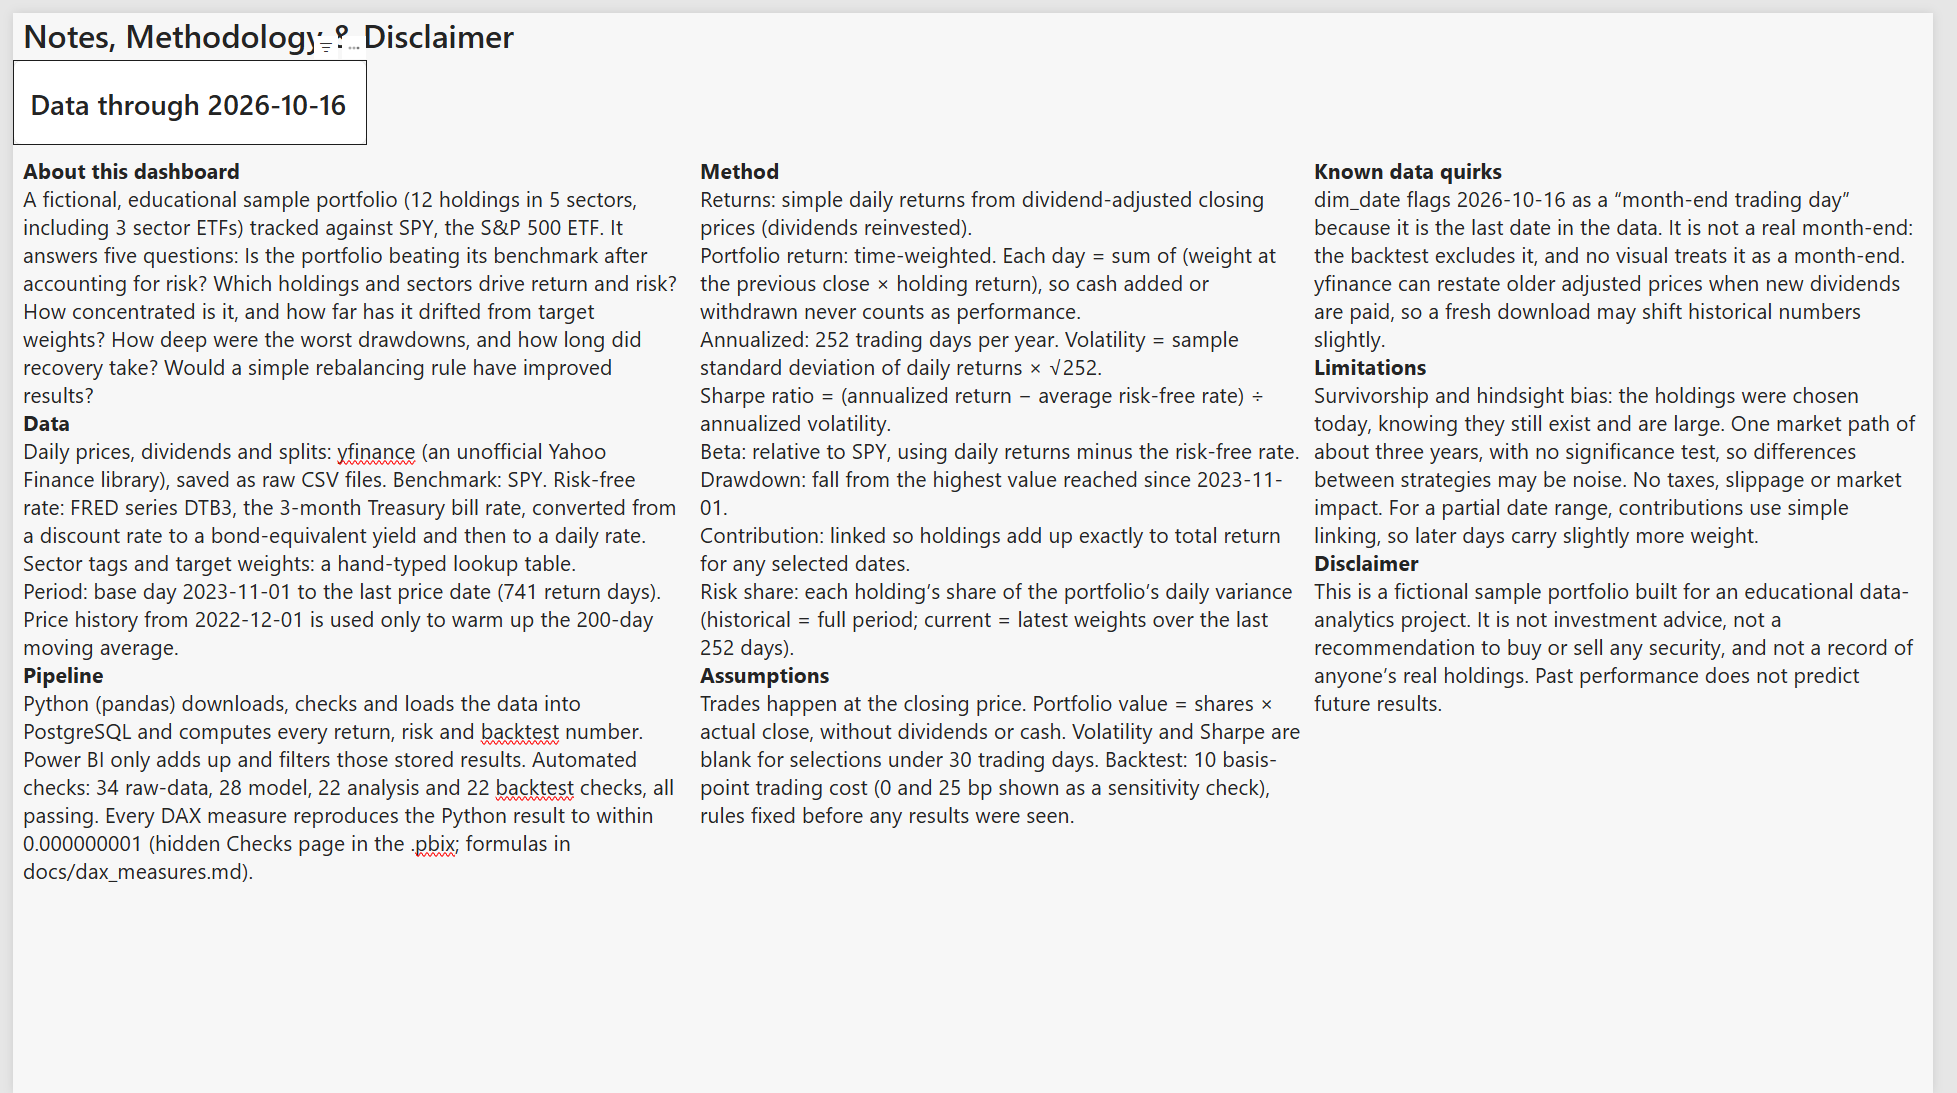

This screenshot's page, from the dashboard's own definition file:
{"tool":"powerbi","page":{"name":"Notes","canvas":[1920,1080],"ordinal":5},"visuals":[{"type":"textbox","box":[10.4,0,509.3,46.7],"z":0},{"type":"cardVisual","fields":{"Data":["_Measures.Data Through"]},"box":[0,47,353.7,85.1],"z":1000},{"type":"textbox","box":[10,143,656,937],"z":2000},{"type":"textbox","box":[687,143,603,937],"z":3000},{"type":"textbox","box":[1301,143,606,937],"z":4000}]}

Visuals, with their boxes in screenshot pixels (x1, y1, x2, y2), scaled from the page's 1920x1080 canvas onto the 1957x1093 screenshot:
textbox: 11 0 530 47
cardVisual - _Measures.Data Through: 0 48 361 134
textbox: 10 145 679 1092
textbox: 700 145 1315 1092
textbox: 1326 145 1944 1092
